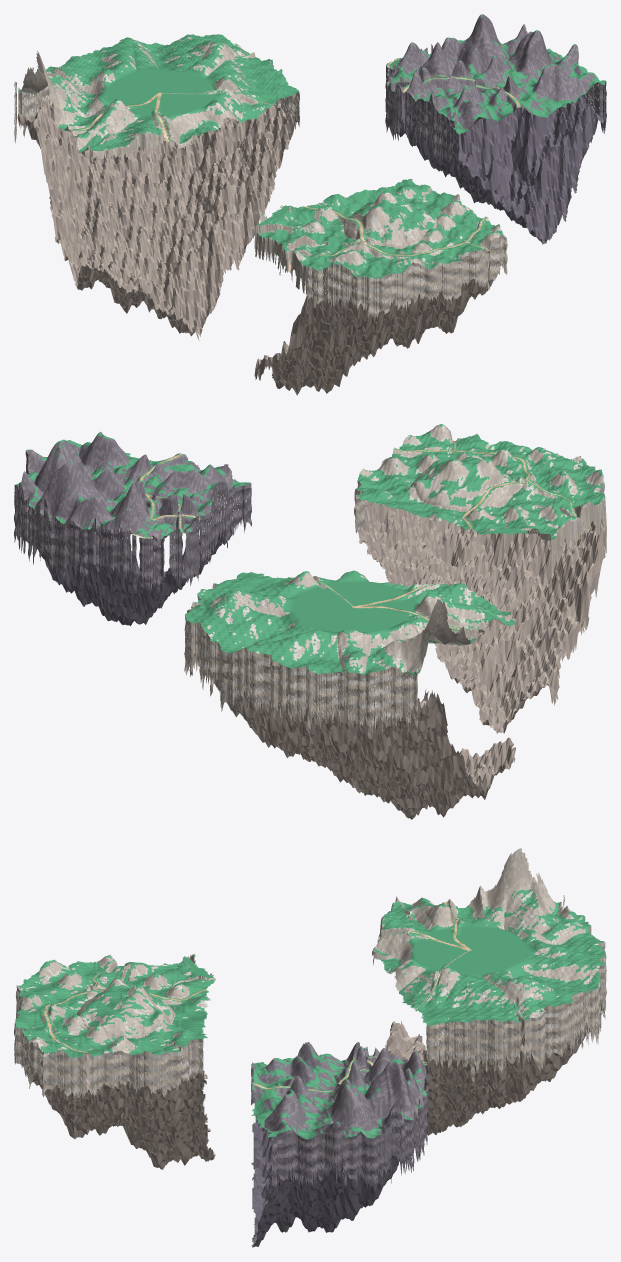
File: Floor1_Mystic_Wilds.fbx
3 views of the same model, one above another, from view 1: azimuth 30°, elevation 25°; view 2: azimuth 150°, elevation 25°; view 3: azimuth 270°, elevation 25° (orthographic). The views are drawn at different scales.
Visible parts, largest first — view 1: World_Tree_Grove_Underside__F1_Rock_Under_Strata_27, World_Tree_Grove_Underside__F1_Rock_Under_25, World_Tree_Grove_Underside__F1_Rock_Under_11, Beast_Cave_Underside__F1_Rock_Under_Dark_9, World_Tree_Grove_Underside__F1_Rock_Under_Strata_11, Beast_Cave_Underside__F1_Rock_Under_Dark_8, Beast_Cave_Top__F1_Rock_Dark_5, Mossy_Caverns_Underside__F1_Rock_Under_Strata_4, Mossy_Caverns_Underside__F1_Rock_Under_4, Beast_Cave_Top__F1_Rock_Dark_Strata_4, Mossy_Caverns_Top__F1_Rock_3, World_Tree_Grove_Underside__F1_Rock_Under_23 (+85 smaller); view 2: Mossy_Caverns_Underside__F1_Rock_Under_8, Mossy_Caverns_Underside__F1_Rock_Under_Strata_4, Mossy_Caverns_Underside__F1_Rock_Under_4, Beast_Cave_Cliffs__F1_Rock_Dark_6, Beast_Cave_Cliffs__F1_Rock_Dark_4, Beast_Cave_Top__F1_Rock_Dark_5, Beast_Cave_Top__F1_Rock_Dark_8, World_Tree_Grove_Cliffs__F1_Rock_4, World_Tree_Grove_Underside__F1_Rock_Under_4, World_Tree_Grove_Cliffs__F1_Rock_Strata_4, World_Tree_Grove_Cliffs__F1_Rock_Light_4, Mossy_Caverns_Underside__F1_Rock_Under_Strata_8 (+85 smaller); view 3: Beast_Cave_Cliffs__F1_Rock_Dark_13, World_Tree_Grove_Underside__F1_Rock_Under_25, Mossy_Caverns_Underside__F1_Rock_Under_8, Beast_Cave_Top__F1_Rock_Dark_8, World_Tree_Grove_Underside__F1_Rock_Under_Strata_27, World_Tree_Grove_Cliffs__F1_Rock_Strata_7, Beast_Cave_Underside__F1_Rock_Under_Dark_9, Mossy_Caverns_Top__F1_Rock_9, World_Tree_Grove_Cliffs__F1_Rock_Light_7, World_Tree_Grove_Cliffs__F1_Rock_7, World_Tree_Grove_Top__F1_Rock_7, Beast_Cave_Cliffs__F1_Rock_Dark_Strata_8 (+61 smaller).
Boxes of the visible parts, x1,y1,x2,y2 form: World_Tree_Grove_Underside__F1_Rock_Under_Strata_27: (157, 114, 285, 235); World_Tree_Grove_Underside__F1_Rock_Under_25: (153, 113, 287, 236); World_Tree_Grove_Underside__F1_Rock_Under_11: (53, 142, 182, 274); Beast_Cave_Underside__F1_Rock_Under_Dark_9: (470, 107, 556, 204); World_Tree_Grove_Underside__F1_Rock_Under_Strata_11: (53, 141, 193, 272); Beast_Cave_Underside__F1_Rock_Under_Dark_8: (511, 134, 580, 244); Beast_Cave_Top__F1_Rock_Dark_5: (396, 37, 491, 98); Mossy_Caverns_Underside__F1_Rock_Under_Strata_4: (264, 295, 374, 372); Mossy_Caverns_Underside__F1_Rock_Under_4: (265, 295, 365, 370); Beast_Cave_Top__F1_Rock_Dark_Strata_4: (412, 15, 543, 93); Mossy_Caverns_Top__F1_Rock_3: (254, 208, 376, 293); World_Tree_Grove_Underside__F1_Rock_Under_23: (208, 130, 290, 268); Mossy_Caverns_Underside__F1_Rock_Under_8: (365, 512, 533, 655); Mossy_Caverns_Underside__F1_Rock_Under_Strata_4: (504, 524, 605, 677); Mossy_Caverns_Underside__F1_Rock_Under_4: (512, 529, 606, 678); Beast_Cave_Cliffs__F1_Rock_Dark_6: (24, 498, 124, 578); Beast_Cave_Cliffs__F1_Rock_Dark_4: (123, 488, 218, 592); Beast_Cave_Top__F1_Rock_Dark_5: (74, 476, 200, 534); Beast_Cave_Top__F1_Rock_Dark_8: (21, 441, 114, 523); World_Tree_Grove_Cliffs__F1_Rock_4: (249, 657, 370, 729); World_Tree_Grove_Underside__F1_Rock_Under_4: (390, 703, 483, 799); World_Tree_Grove_Cliffs__F1_Rock_Strata_4: (249, 653, 370, 728); World_Tree_Grove_Cliffs__F1_Rock_Light_4: (249, 650, 370, 730); Mossy_Caverns_Underside__F1_Rock_Under_Strata_8: (363, 511, 531, 662); Beast_Cave_Cliffs__F1_Rock_Dark_13: (312, 1103, 405, 1184); World_Tree_Grove_Underside__F1_Rock_Under_25: (430, 1052, 552, 1115); Mossy_Caverns_Underside__F1_Rock_Under_8: (73, 1077, 193, 1144); Beast_Cave_Top__F1_Rock_Dark_8: (340, 1061, 423, 1135); World_Tree_Grove_Underside__F1_Rock_Under_Strata_27: (430, 1054, 553, 1114); World_Tree_Grove_Cliffs__F1_Rock_Strata_7: (431, 1006, 551, 1065); Beast_Cave_Underside__F1_Rock_Under_Dark_9: (311, 1154, 420, 1232); Mossy_Caverns_Top__F1_Rock_9: (73, 986, 180, 1048); World_Tree_Grove_Cliffs__F1_Rock_Light_7: (431, 1013, 551, 1069); World_Tree_Grove_Cliffs__F1_Rock_7: (431, 1009, 551, 1070); World_Tree_Grove_Top__F1_Rock_7: (468, 852, 551, 923); Beast_Cave_Cliffs__F1_Rock_Dark_Strata_8: (312, 1107, 405, 1184).
Bounding box in the file's own units: 813817 × 436489 × 848659.
